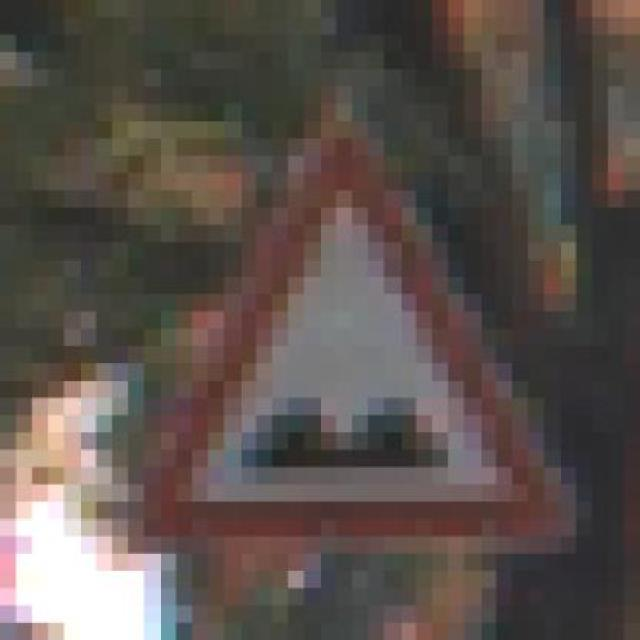Uneven Road: (112, 103, 560, 554)
